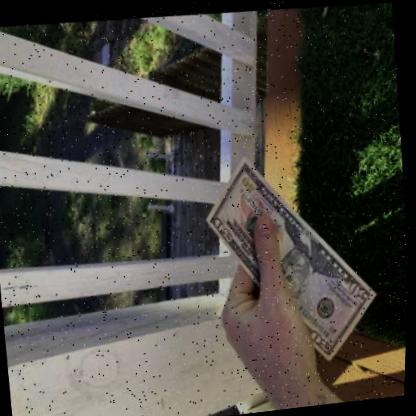fifty-front: (208, 151, 380, 357)
